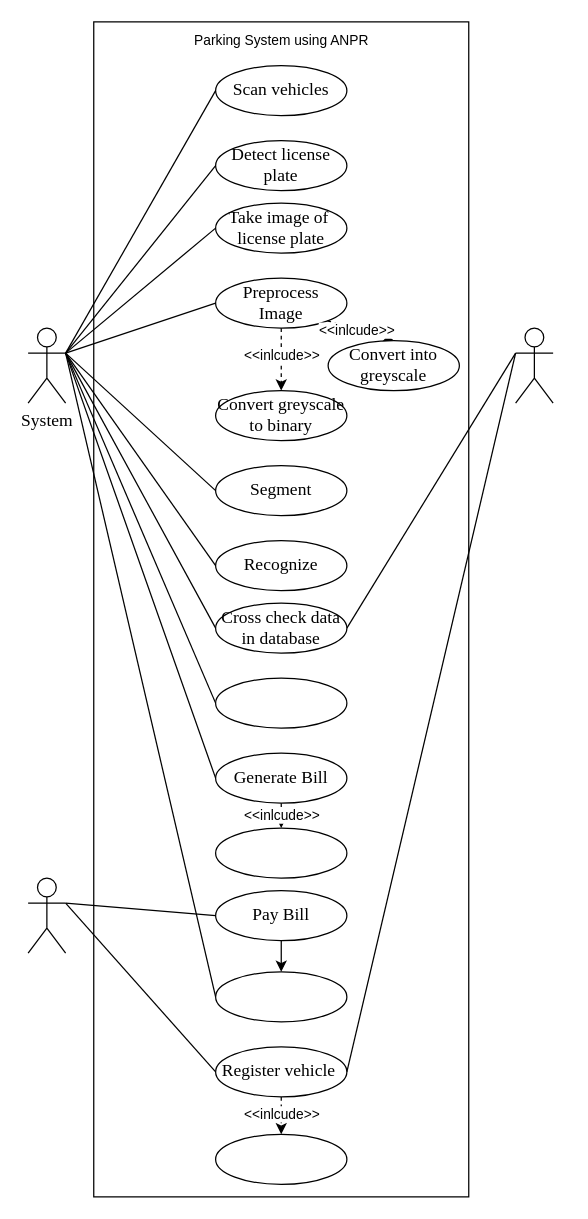
This 588x1219 diagram has some shape labels left out. The shapes that lost their labels are listed below. From the top down, each one's centre as x and y in pixels, then its label:
At pixel 533 365: "Database".
At pixel 280 702: "Allow entry".
At pixel 280 852: "Calculate total parking duration".
At pixel 46 915: "User".
At pixel 280 996: "Allow Exit".
At pixel 280 1158: "License plate information".
